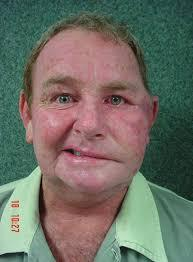strokeEyeWeak: (40, 76, 141, 112)
strokeMouthSevere: (59, 143, 127, 169)
